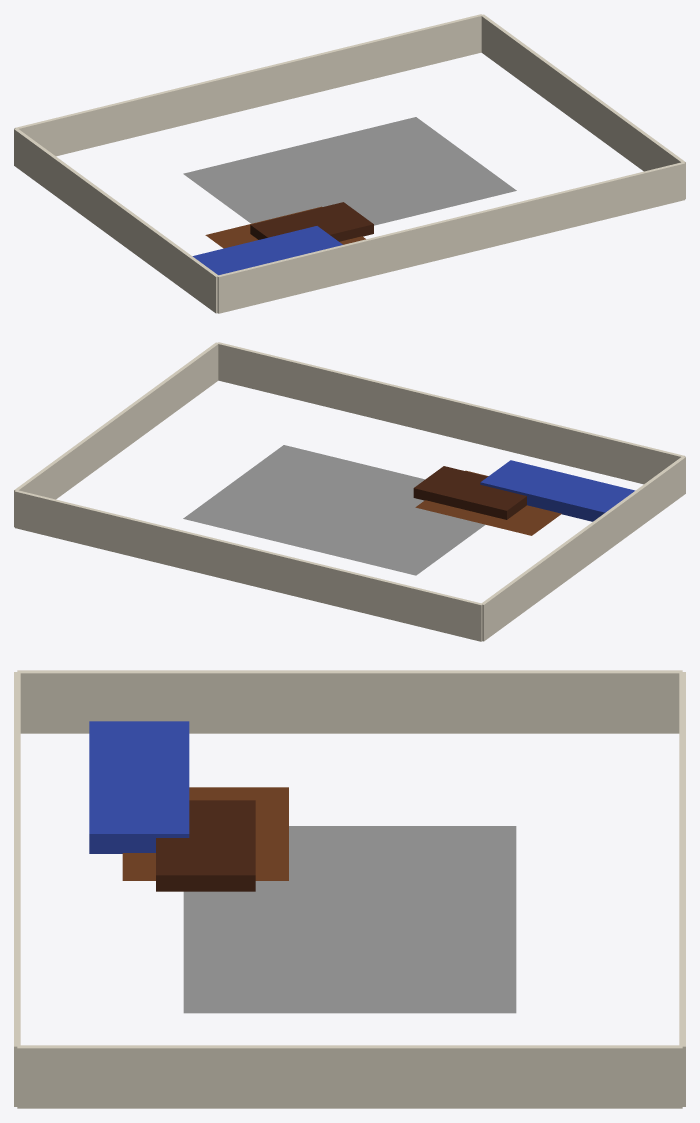
Rendered from boq_professional_7c4731e1-82ac-4219-a11c-46fe582b75e2.obj.
3 renders of one model, top to bottom at view 1: azimuth 30°, elevation 25°; view 2: azimuth 150°, elevation 25°; view 3: azimuth 270°, elevation 25°, orthographic. The views are drawn at different scales.
Parts seen in each view (by area): view 1: Foundation, ExteriorWall_South, ExteriorWall_North, ExteriorWall_West, ExteriorWall_East, Sofa_Living_Room, CoffeeTable_Living_Room, Floor_Living_Room; view 2: Foundation, ExteriorWall_North, ExteriorWall_South, ExteriorWall_West, ExteriorWall_East, Sofa_Living_Room, CoffeeTable_Living_Room, Floor_Living_Room; view 3: Foundation, ExteriorWall_East, ExteriorWall_West, Sofa_Living_Room, CoffeeTable_Living_Room, Floor_Living_Room, ExteriorWall_South, ExteriorWall_North.
Boxes of the visible parts, x1,y1,x2,y2 form: Foundation: (183, 117, 516, 225); ExteriorWall_South: (217, 162, 685, 313); ExteriorWall_North: (14, 14, 482, 156); ExteriorWall_West: (14, 128, 218, 313); ExteriorWall_East: (481, 14, 685, 198); Sofa_Living_Room: (192, 226, 342, 275); CoffeeTable_Living_Room: (250, 202, 373, 241); Floor_Living_Room: (205, 206, 365, 248); Foundation: (183, 445, 485, 575); ExteriorWall_North: (14, 490, 482, 641); ExteriorWall_South: (217, 342, 685, 484); ExteriorWall_West: (481, 456, 685, 641); ExteriorWall_East: (14, 342, 218, 526); Sofa_Living_Room: (480, 460, 635, 521); CoffeeTable_Living_Room: (413, 466, 526, 519); Floor_Living_Room: (415, 470, 561, 535); Foundation: (183, 826, 516, 1013); ExteriorWall_East: (17, 1045, 682, 1108); ExteriorWall_West: (17, 670, 682, 733); Sofa_Living_Room: (89, 721, 189, 853); CoffeeTable_Living_Room: (156, 800, 255, 891); Floor_Living_Room: (122, 787, 288, 880); ExteriorWall_South: (14, 672, 20, 1106); ExteriorWall_North: (679, 672, 685, 1106).
Bounding box in the file's own units: 40.3 × 3 × 30.3.
